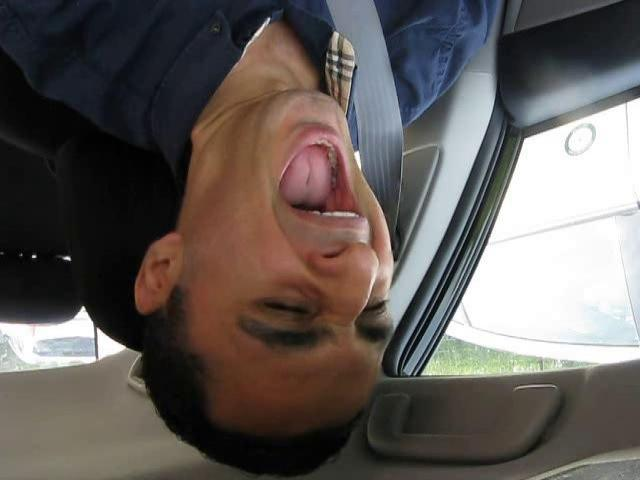eye_closed: (259, 295, 314, 323), (359, 292, 393, 324)
face: (205, 86, 400, 368)
mouth_open: (276, 124, 372, 236)
